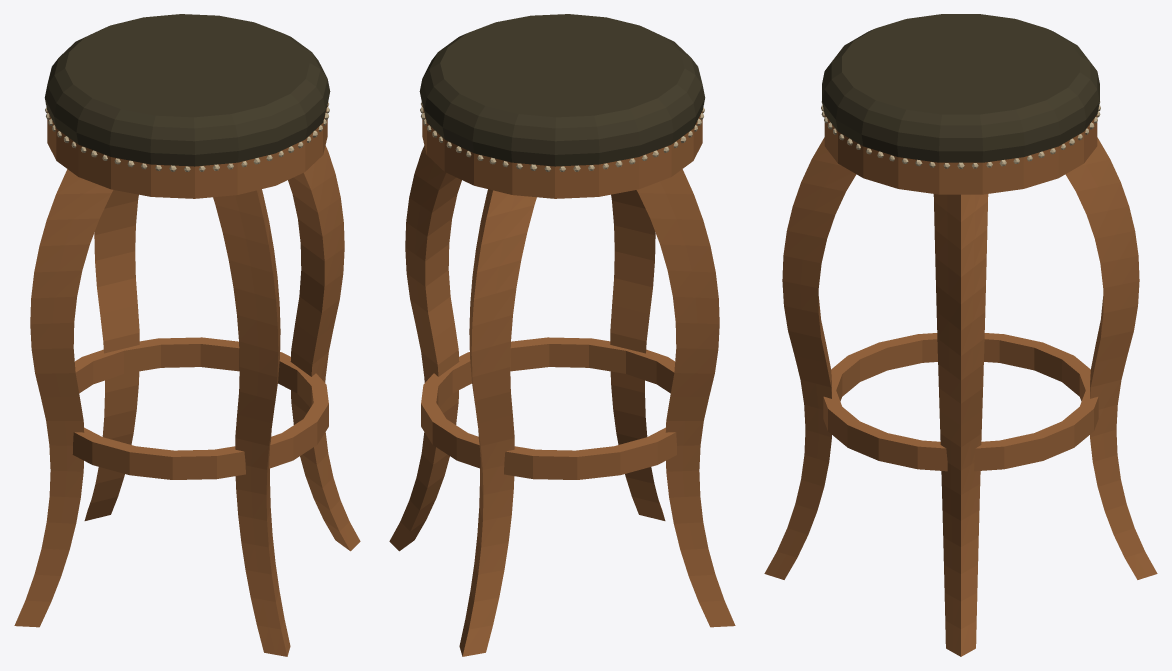
The model's file is chair-by-cmht-oculus-aFvAXhR1ZJA.glb.
3 renders of one model, left to right at view 1: azimuth 30°, elevation 25°; view 2: azimuth 150°, elevation 25°; view 3: azimuth 270°, elevation 25°, orthographic.
Visible parts, largest first — view 1: Node; view 2: Node; view 3: Node.
Part boxes in pixels (left/top/right/bottom): Node: left=14, top=14, right=360, bottom=656; Node: left=389, top=14, right=735, bottom=656; Node: left=764, top=14, right=1157, bottom=656.
Size of the model in its own units: 19.58 by 28 by 19.58.
